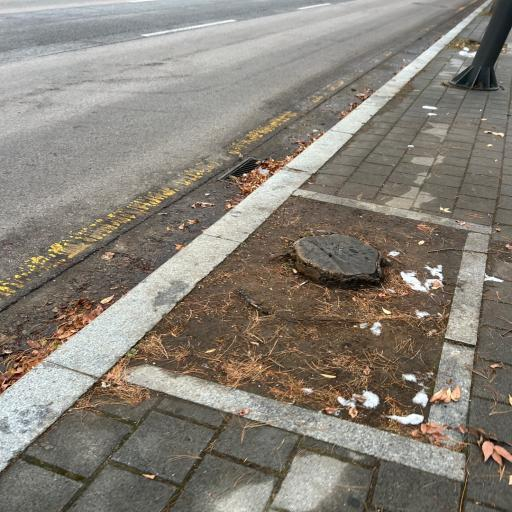debris: (229, 161, 286, 185)
drain: (221, 159, 287, 185)
